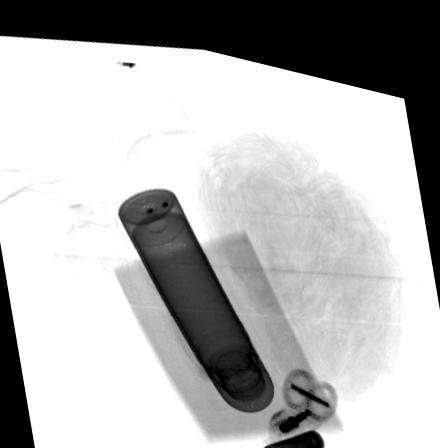Bullet: (237, 412, 324, 448)
